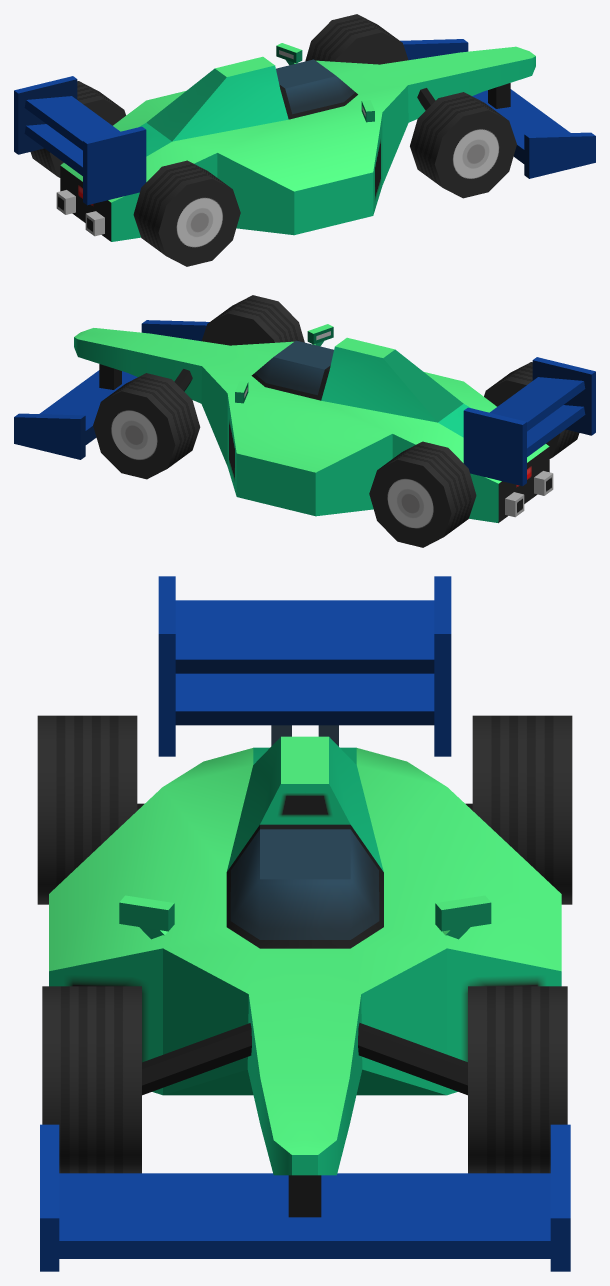
Rendered from RaceCar_092.glb.
3 views of the same model, one above another, from view 1: azimuth 30°, elevation 25°; view 2: azimuth 150°, elevation 25°; view 3: azimuth 270°, elevation 25° (orthographic). The views are drawn at different scales.
Visible parts, largest first — view 1: RaceCar_092, wheel_3_RaceCar_092_Wheel_2R, wheel_1_RaceCar_092_Wheel_1R, wheel_0_RaceCar_092_Wheel_1L, wheel_2_RaceCar_092_Wheel_2L; view 2: RaceCar_092, wheel_0_RaceCar_092_Wheel_1L, wheel_2_RaceCar_092_Wheel_2L, wheel_1_RaceCar_092_Wheel_1R, wheel_3_RaceCar_092_Wheel_2R; view 3: RaceCar_092, wheel_0_RaceCar_092_Wheel_1L, wheel_1_RaceCar_092_Wheel_1R, wheel_3_RaceCar_092_Wheel_2R, wheel_2_RaceCar_092_Wheel_2L.
Part boxes in pixels (box(x1,y1,x2,y2)): RaceCar_092: box(14, 39, 595, 241); wheel_3_RaceCar_092_Wheel_2R: box(133, 160, 240, 266); wheel_1_RaceCar_092_Wheel_1R: box(410, 92, 516, 198); wheel_0_RaceCar_092_Wheel_1L: box(305, 14, 408, 64); wheel_2_RaceCar_092_Wheel_2L: box(30, 81, 125, 177); RaceCar_092: box(14, 320, 595, 523); wheel_0_RaceCar_092_Wheel_1L: box(93, 373, 200, 479); wheel_2_RaceCar_092_Wheel_2L: box(369, 441, 476, 547); wheel_1_RaceCar_092_Wheel_1R: box(201, 295, 304, 345); wheel_3_RaceCar_092_Wheel_2R: box(484, 362, 579, 458); RaceCar_092: box(40, 576, 570, 1271); wheel_0_RaceCar_092_Wheel_1L: box(468, 986, 567, 1173); wheel_1_RaceCar_092_Wheel_1R: box(42, 986, 141, 1173); wheel_3_RaceCar_092_Wheel_2R: box(37, 715, 137, 904); wheel_2_RaceCar_092_Wheel_2L: box(472, 715, 572, 904).
Size of the model in its own units: 4.08 by 0.9752 by 1.96.
1 material, 1 textured.
